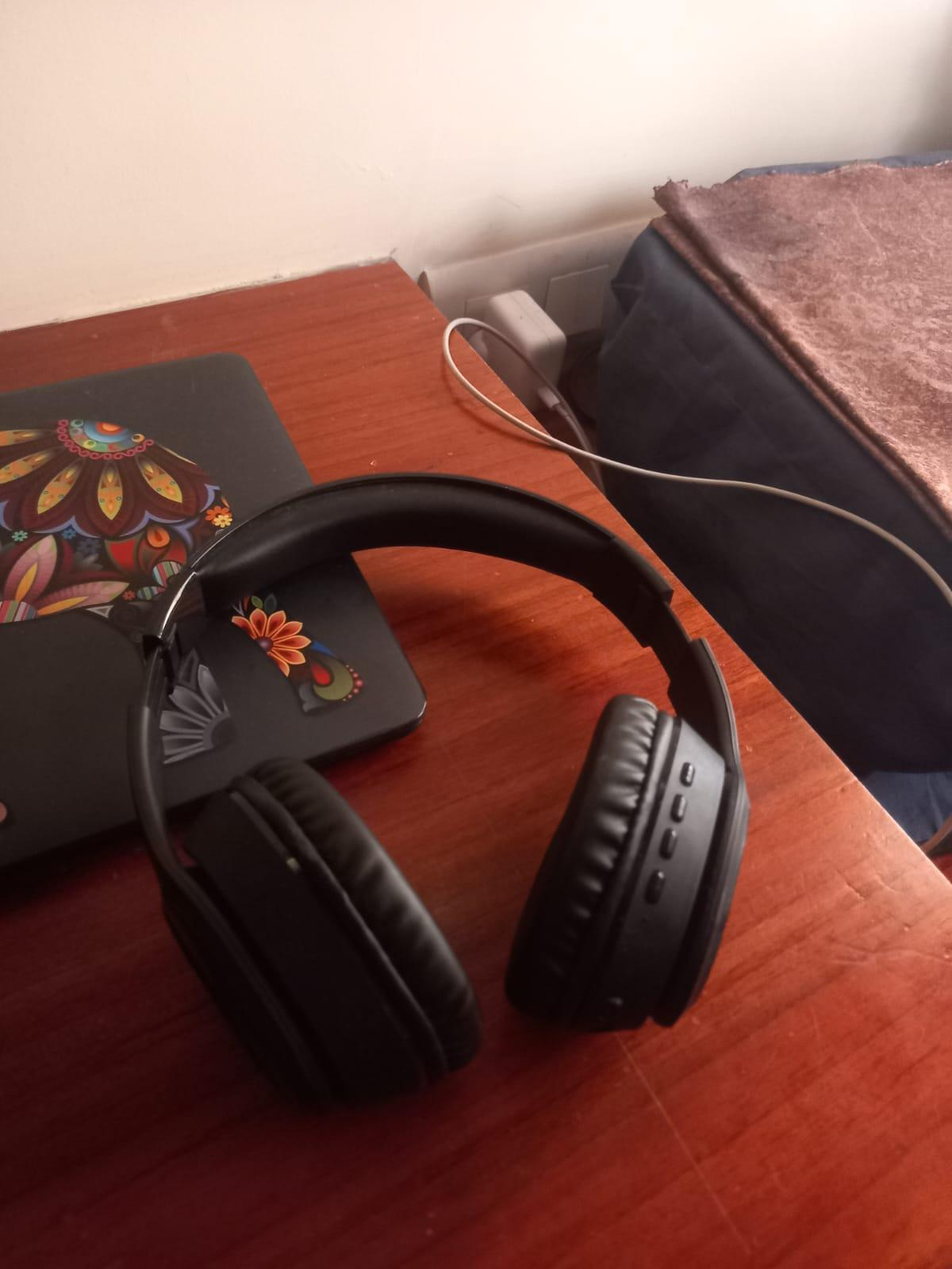headset: (146, 455, 743, 1148)
laptop: (0, 376, 385, 827)
